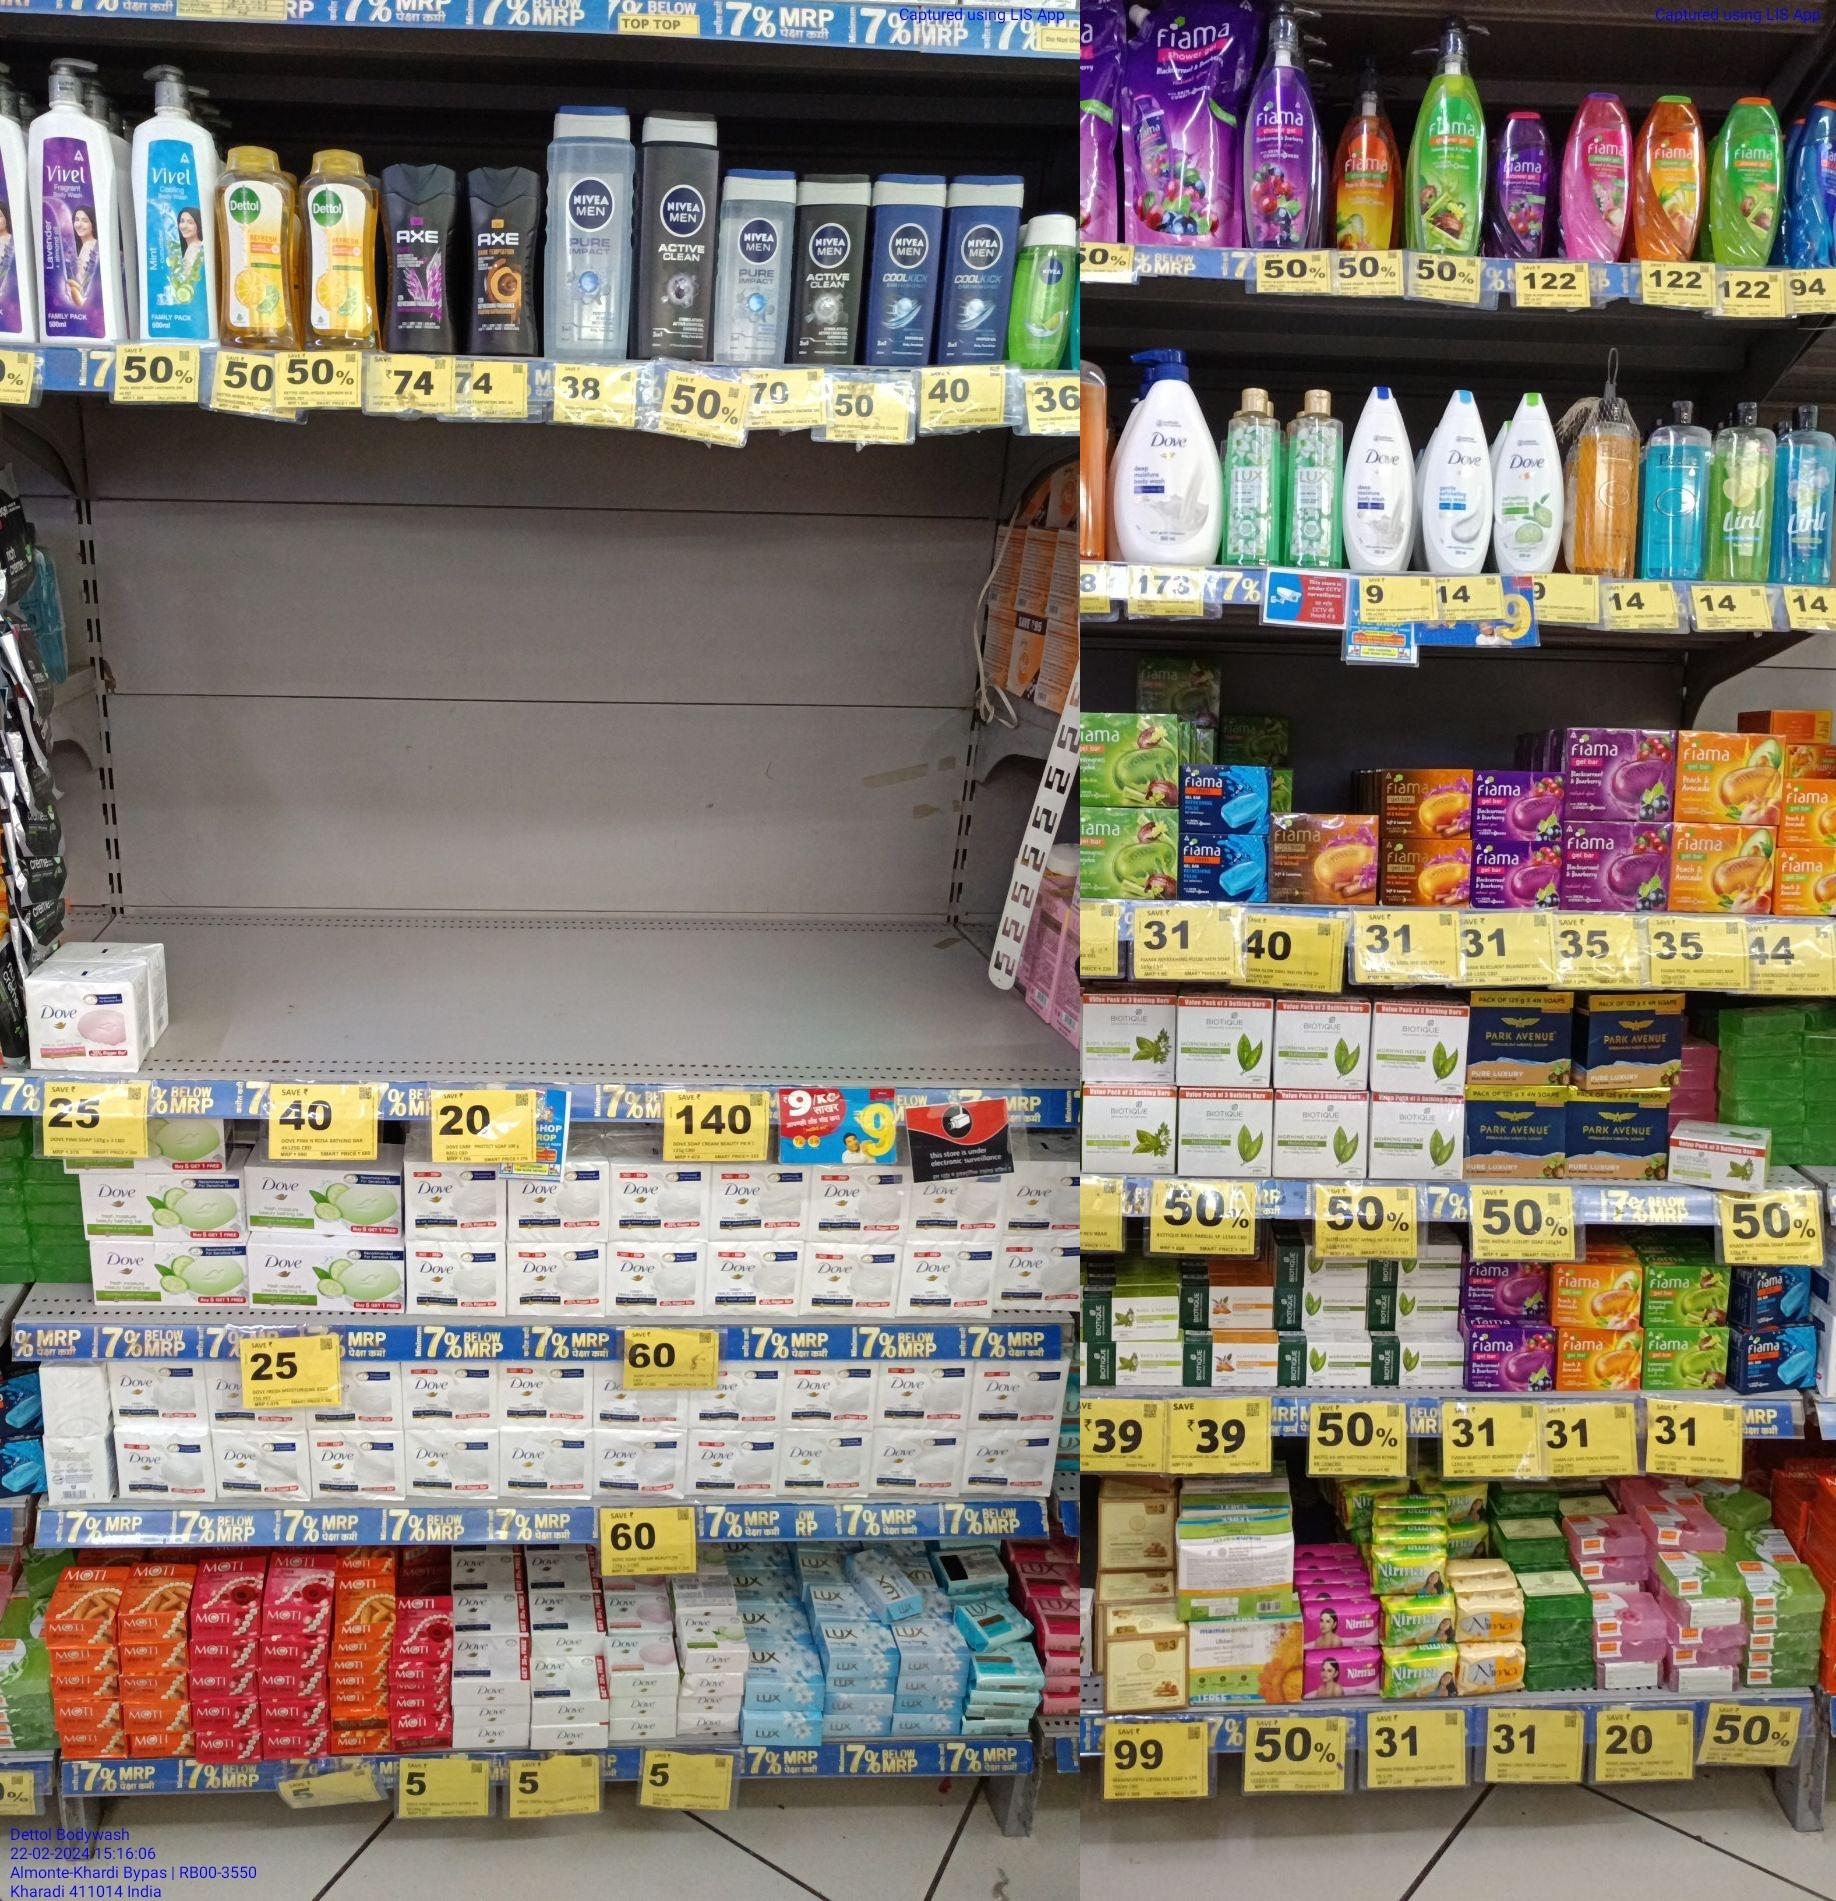Dettol_Bodywash_Refresh: (304, 141, 383, 353), (219, 144, 295, 353)
Dove_Deep_Moisture_Body_Wash_250ML: (1344, 385, 1408, 570)
Dove_Gentle_Exfoliating_Body_Wash_250ML: (1422, 389, 1490, 574)
Dove_Refreshing_Body_Wash_250ML: (1495, 390, 1561, 572)
Fiama_Shower_Gel_Lemongrass_and_Jojoba_250ML: (1712, 98, 1785, 270)
Fiama_Shower_Gel_Patchouli_and_Macadamia_250ML: (1565, 88, 1629, 266)
Fiama_Shower_Gel_Peach_and_Avocado_250ML: (1631, 93, 1699, 261)
Lux_Body_Wash_Skin_Detox_Freesia_Scent_and_Alove_Vera_245ML: (1290, 389, 1342, 567), (1230, 387, 1283, 564)
Nivea_Shower_Gel_Lemon_and_Oil_250ML: (1015, 199, 1081, 375)
